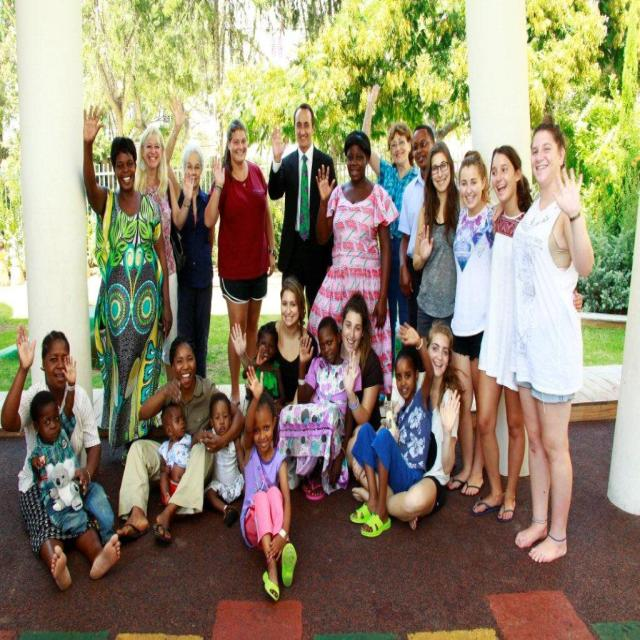body: (509, 111, 595, 566), (81, 100, 176, 469), (0, 319, 123, 594), (116, 337, 246, 546), (306, 128, 400, 398), (348, 317, 465, 532), (442, 147, 507, 500), (471, 144, 531, 523), (203, 119, 278, 410), (347, 318, 439, 540), (360, 82, 419, 408), (26, 353, 116, 548), (265, 100, 339, 322), (132, 125, 194, 384), (274, 315, 356, 504), (163, 92, 216, 379), (236, 364, 299, 604), (229, 276, 319, 411), (411, 140, 463, 373), (396, 123, 438, 336), (336, 291, 386, 436), (198, 390, 246, 528), (158, 402, 206, 508), (242, 321, 286, 417)
